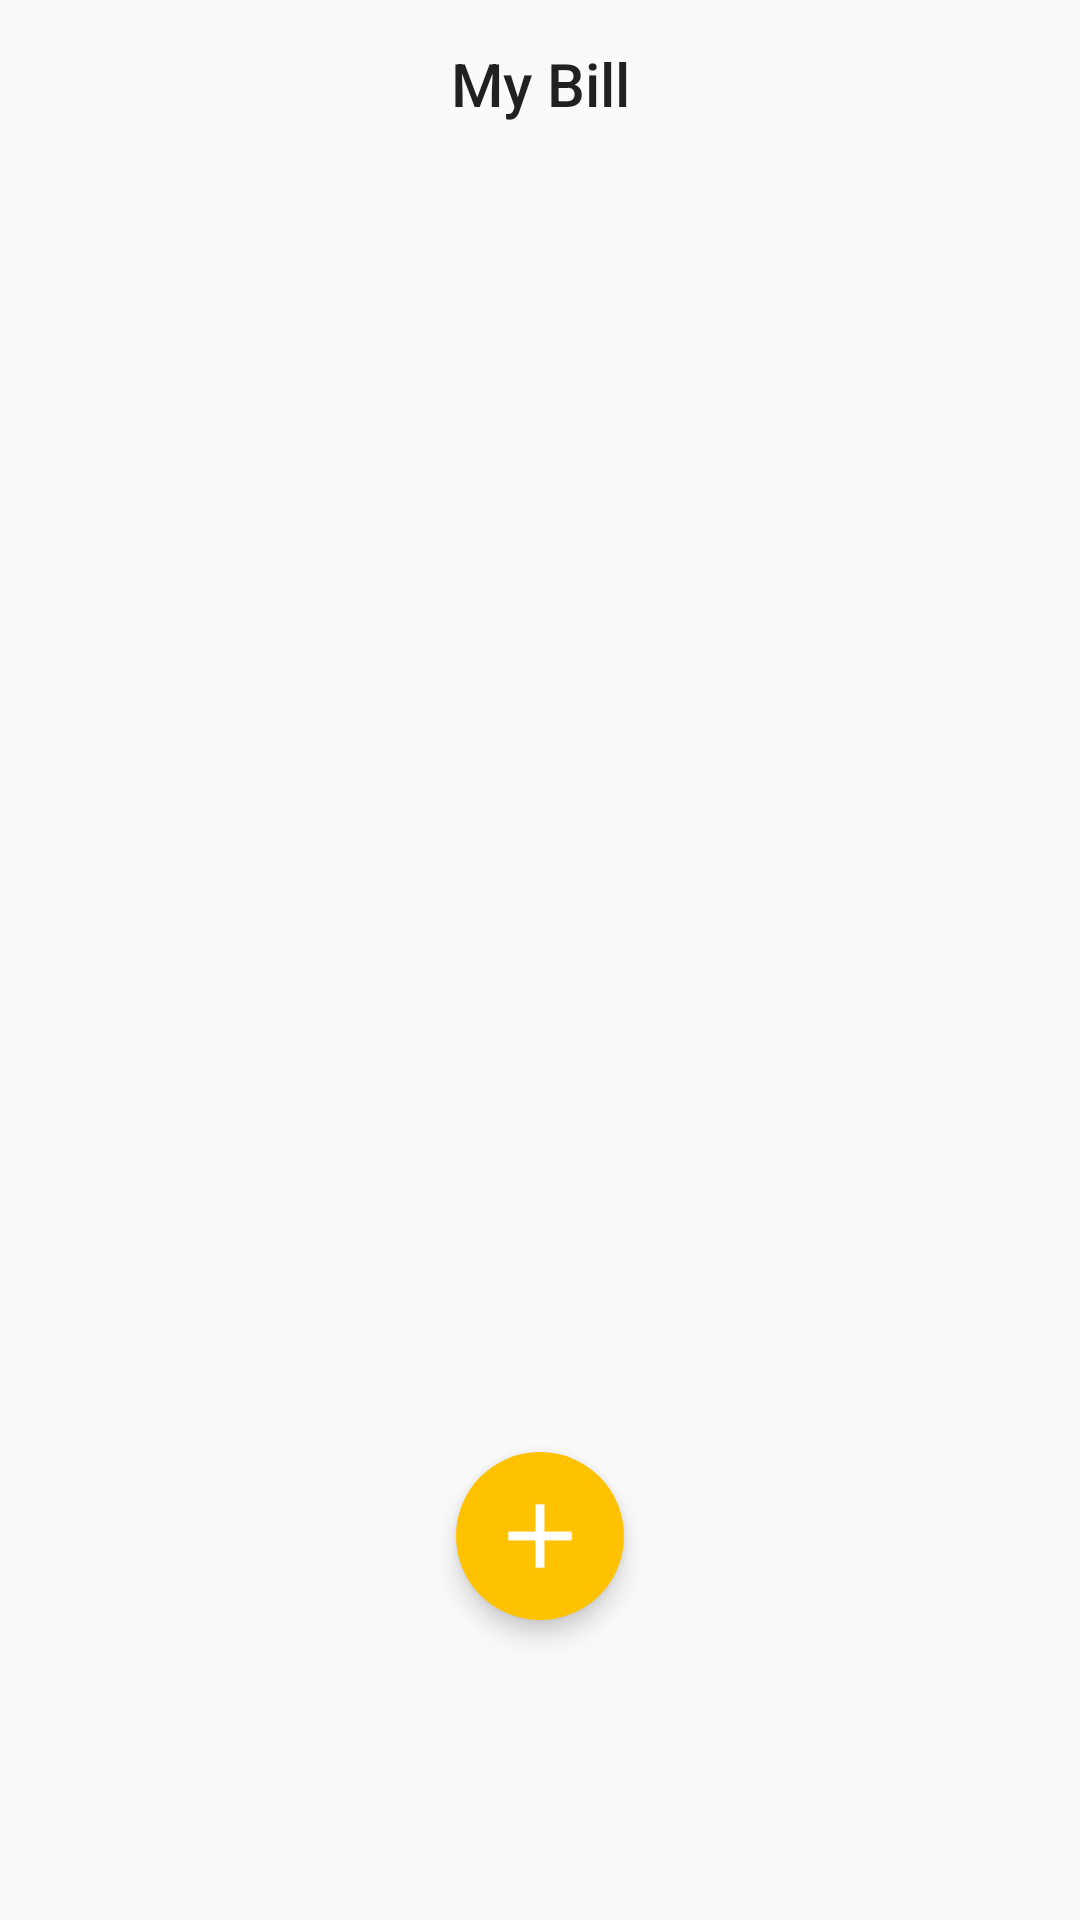

Screen size 1080w x 1920h. Icon name, then its center in pixels as (x=x, y=y):
add: (x=540, y=1536)
